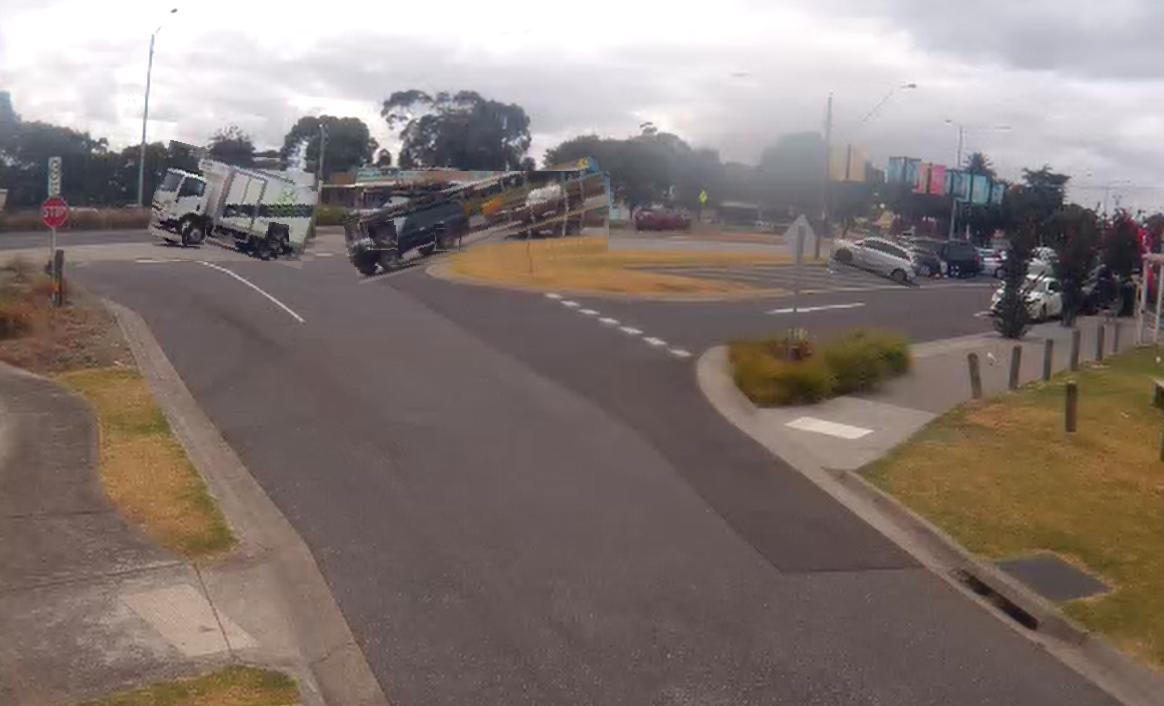VEHICLE TYPE 1: (153, 150, 321, 262), (832, 230, 930, 286), (633, 203, 693, 235)
VEHICLE TYPE 2: (346, 172, 612, 269)
wheel: (372, 225, 399, 251), (438, 229, 463, 252), (189, 224, 208, 247), (270, 224, 291, 244)
